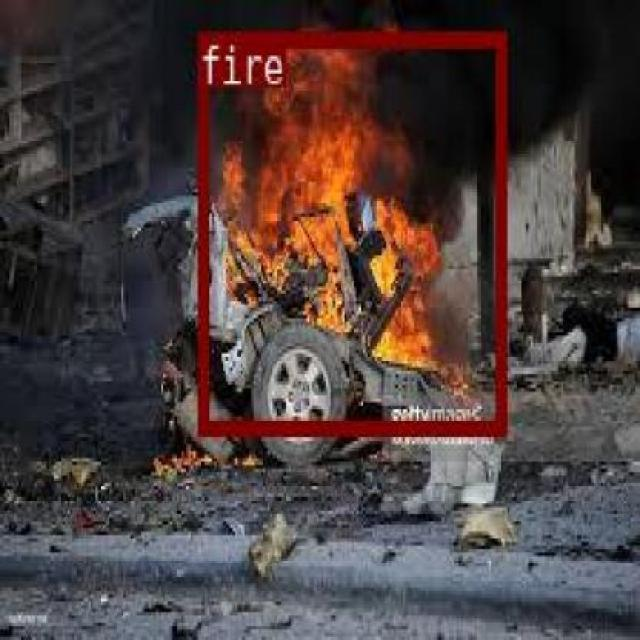Fire: (196, 30, 504, 433)
